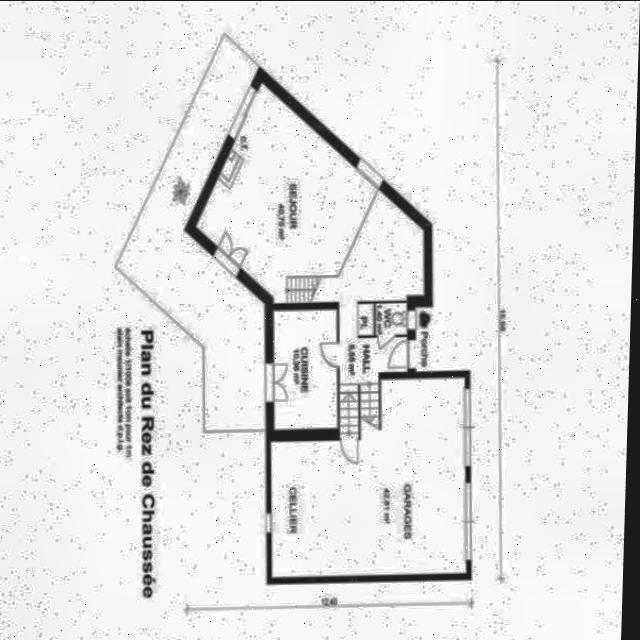room: (119, 83, 496, 454), (267, 379, 462, 579), (262, 309, 337, 431), (373, 304, 404, 339)
